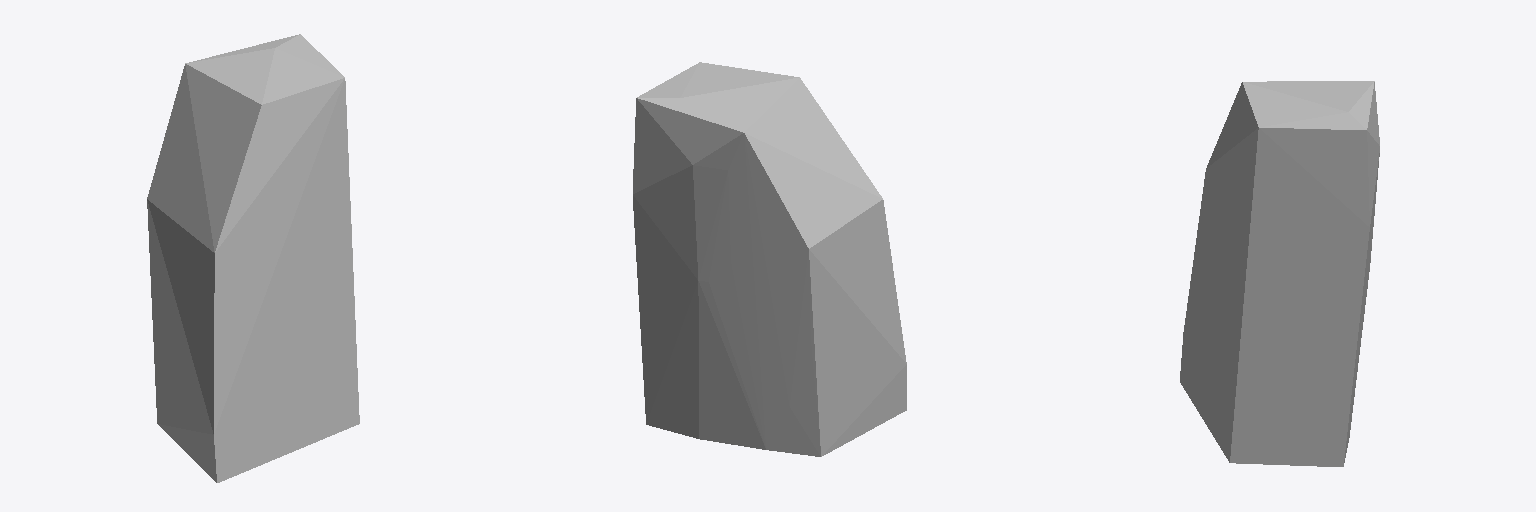
File: trash_bin_collision_37.obj
3 renders of one model, left to right at view 1: azimuth 30°, elevation 25°; view 2: azimuth 150°, elevation 25°; view 3: azimuth 270°, elevation 25°, orthographic.
Size of the model in its own units: 0.0279 by 0.0501 by 0.0268.